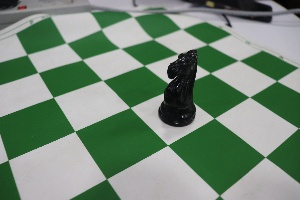black_horse: (152, 37, 206, 131)
